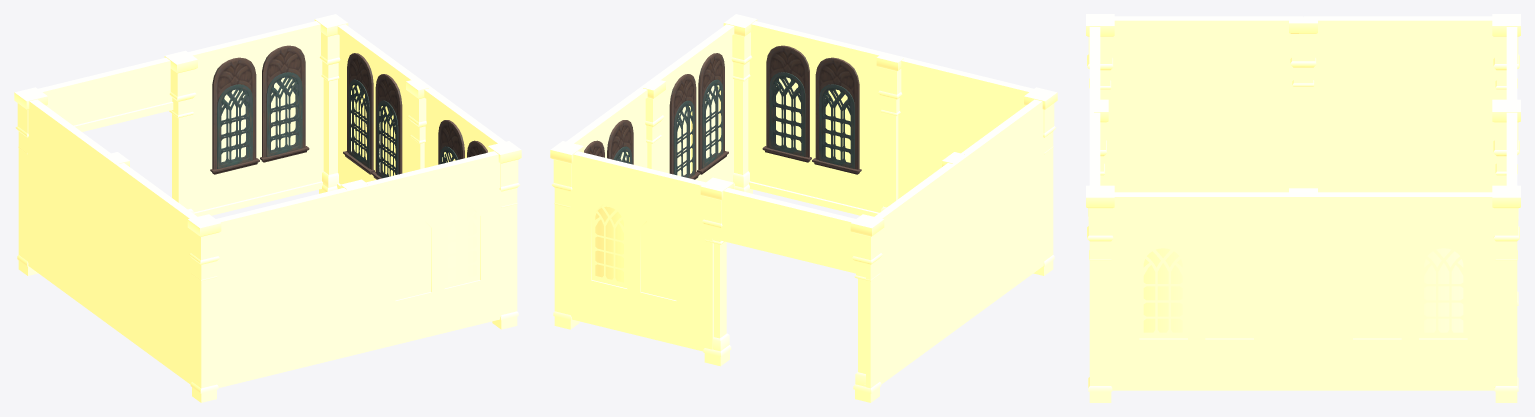
The model's file is Homeworld_Interior_Md_Room_L_Wall_01_Vo.fbx.
3 renders of one model, left to right at view 1: azimuth 30°, elevation 25°; view 2: azimuth 150°, elevation 25°; view 3: azimuth 270°, elevation 25°, orthographic. The views are drawn at different scales.
Parts seen in each view (by area): view 1: Homeworld_Interior_Md_Room_Wall_01_Vo (×3), Homeworld_Interior_Md_Room_Wall_02_Vo (×4), Homeworld_Interior_Md_Room_Pillar_01_Vo (×5), Homeworld_Interior_Md_Room_L_Filling_01_Vo, Homeworld_Interior_Md_Room_Wall_08_Vo, Homeworld_Interior_Md_Room_Pillar_02_Vo; view 2: Homeworld_Interior_Md_Room_Wall_02_Vo (×4), Homeworld_Interior_Md_Room_Wall_01_Vo (×3), Homeworld_Interior_Md_Room_Pillar_01_Vo (×5), Homeworld_Interior_Md_Room_L_Filling_01_Vo, Homeworld_Interior_Md_Room_Wall_08_Vo, Homeworld_Interior_Md_Room_Pillar_02_Vo (×2); view 3: Homeworld_Interior_Md_Room_Wall_02_Vo (×4), Homeworld_Interior_Md_Room_Wall_01_Vo (×3), Homeworld_Interior_Md_Room_L_Filling_01_Vo, Homeworld_Interior_Md_Room_Pillar_01_Vo (×5), Homeworld_Interior_Md_Room_Pillar_02_Vo (×2), Homeworld_Interior_Md_Room_Wall_08_Vo.
Part boxes in pixels (x1=…): Homeworld_Interior_Md_Room_Wall_01_Vo (×3): x1=18, y1=99, x2=359, y2=388; Homeworld_Interior_Md_Room_Wall_02_Vo (×4): x1=188, y1=21, x2=517, y2=353; Homeworld_Interior_Md_Room_Pillar_01_Vo (×5): x1=14, y1=14, x2=521, y2=402; Homeworld_Interior_Md_Room_L_Filling_01_Vo: x1=221, y1=77, x2=476, y2=294; Homeworld_Interior_Md_Room_Wall_08_Vo: x1=38, y1=57, x2=173, y2=131; Homeworld_Interior_Md_Room_Pillar_02_Vo: x1=406, y1=79, x2=428, y2=170; Homeworld_Interior_Md_Room_Wall_02_Vo (×4): x1=554, y1=21, x2=894, y2=351; Homeworld_Interior_Md_Room_Wall_01_Vo (×3): x1=866, y1=55, x2=1053, y2=388; Homeworld_Interior_Md_Room_Pillar_01_Vo (×5): x1=550, y1=14, x2=1057, y2=402; Homeworld_Interior_Md_Room_L_Filling_01_Vo: x1=595, y1=77, x2=850, y2=294; Homeworld_Interior_Md_Room_Wall_08_Vo: x1=712, y1=188, x2=870, y2=276; Homeworld_Interior_Md_Room_Pillar_02_Vo (×2): x1=643, y1=53, x2=903, y2=211; Homeworld_Interior_Md_Room_Wall_02_Vo (×4): x1=1089, y1=106, x2=1517, y2=390; Homeworld_Interior_Md_Room_Wall_01_Vo (×3): x1=1089, y1=16, x2=1498, y2=192; Homeworld_Interior_Md_Room_L_Filling_01_Vo: x1=1143, y1=248, x2=1463, y2=332; Homeworld_Interior_Md_Room_Pillar_01_Vo (×5): x1=1086, y1=14, x2=1520, y2=402; Homeworld_Interior_Md_Room_Pillar_02_Vo (×2): x1=1094, y1=17, x2=1317, y2=188; Homeworld_Interior_Md_Room_Wall_08_Vo: x1=1506, y1=27, x2=1517, y2=99.
Size of what is drawn, in the model's own units: 10.17 by 5.34 by 10.17.
